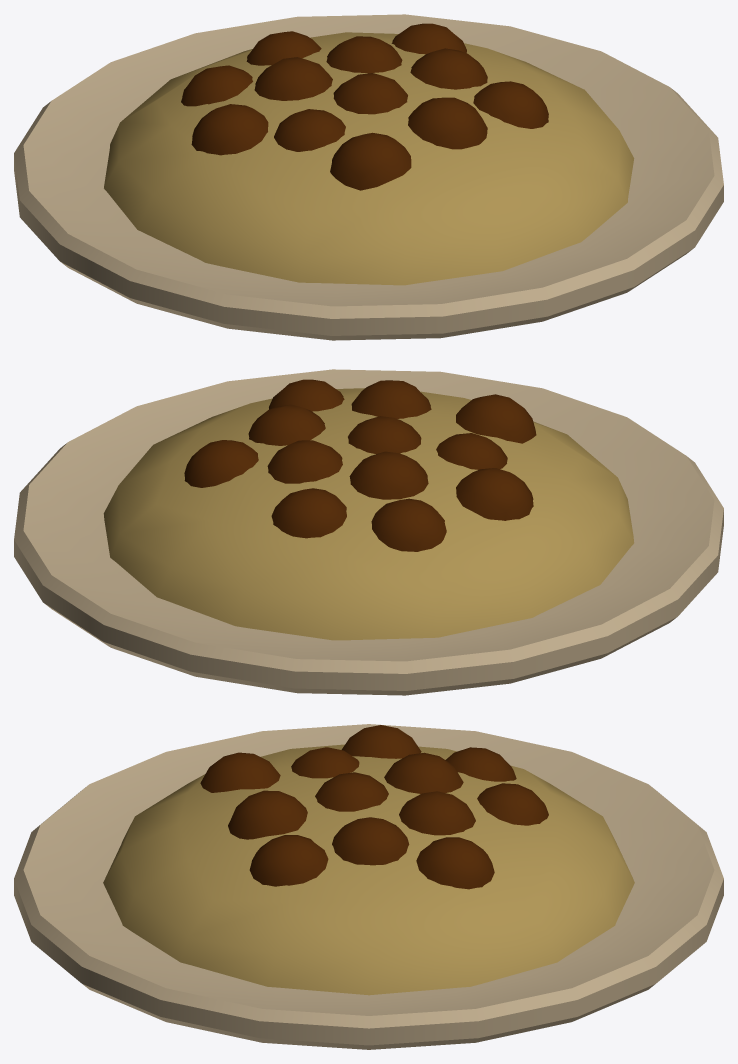
Rendered from macguffin_HWG.fbx.
3 renders of one model, top to bottom at view 1: azimuth 30°, elevation 25°; view 2: azimuth 150°, elevation 25°; view 3: azimuth 270°, elevation 25°, orthographic.
Visible parts, largest first — view 1: macguffin; view 2: macguffin; view 3: macguffin.
Boxes of the visible parts, x1,y1,x2,y2 form: macguffin: (14,14,723,340); macguffin: (14,369,723,695); macguffin: (14,724,723,1049).
Bounding box in the file's own units: 21.93 × 5.35 × 21.93.
